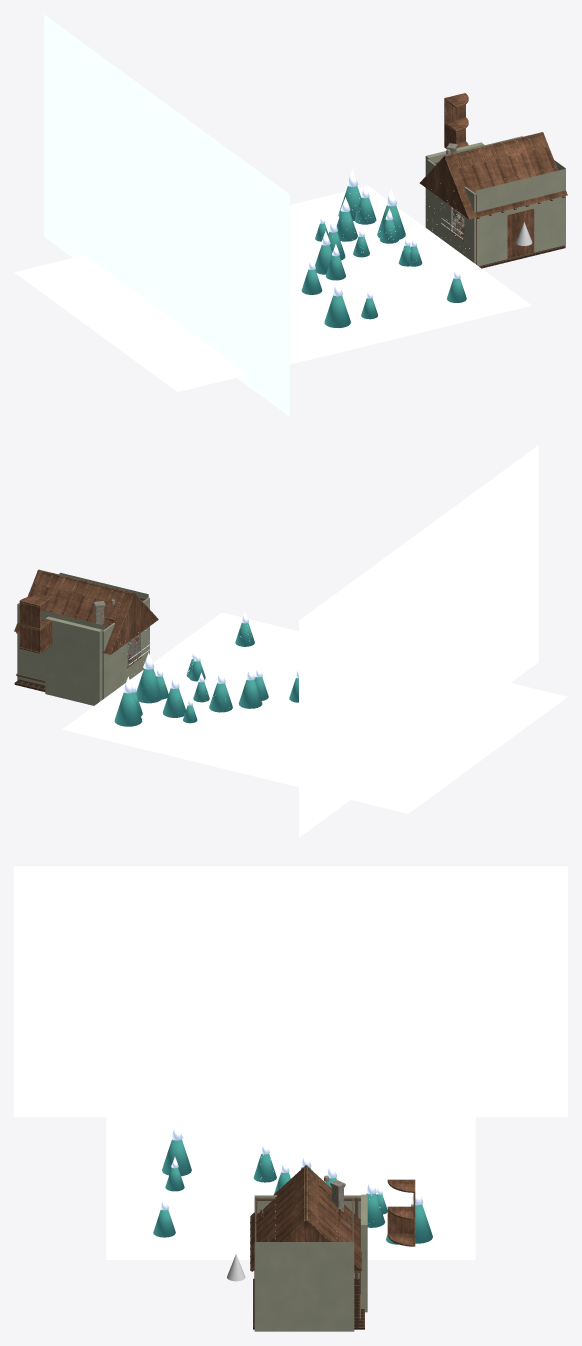
File: room.glb
3 renders of one model, top to bottom at view 1: azimuth 30°, elevation 25°; view 2: azimuth 150°, elevation 25°; view 3: azimuth 270°, elevation 25°, orthographic. The views are drawn at different scales.
Parts seen in each view (by area): view 1: OutBackdrop, OutGround, RoofGable, RoomShell, WestWallRound, BookShelf, OutPine5; view 2: OutBackdrop, OutGround, RoofGable, Cube.022, WestWallRound, RoomShell, OutPine9, OutPine15, OutPine2, OutPine0, OutPine3, CornerCab_SideX2 (+1 smaller); view 3: OutBackdrop, OutGround, RoomShell, RoofGable, Cube.022, OutPine5.
Part boxes in pixels (x1,y1,x2,y2): OutBackdrop: [44, 14, 289, 416]; OutGround: [14, 186, 531, 391]; RoofGable: [419, 132, 567, 219]; RoomShell: [431, 136, 565, 268]; WestWallRound: [427, 159, 475, 263]; BookShelf: [507, 208, 534, 258]; OutPine5: [324, 295, 350, 328]; OutBackdrop: [299, 445, 538, 837]; OutGround: [62, 612, 567, 813]; RoofGable: [14, 569, 158, 654]; Cube.022: [45, 616, 102, 705]; WestWallRound: [102, 597, 149, 699]; RoomShell: [17, 572, 148, 685]; OutPine9: [114, 692, 142, 726]; OutPine15: [136, 668, 161, 703]; OutPine2: [162, 688, 185, 717]; OutPine0: [209, 683, 232, 712]; OutPine3: [238, 679, 262, 708]; CornerCab_SideX2: [19, 602, 40, 628]; OutBackdrop: [14, 866, 567, 1117]; OutGround: [106, 1104, 475, 1259]; RoomShell: [254, 1242, 354, 1331]; RoofGable: [250, 1165, 361, 1270]; Cube.022: [361, 1194, 367, 1312]; OutPine5: [162, 1139, 191, 1176].
Size of the model in its own units: 19.22 by 9.12 by 18.
Materials: 255 (155 with a texture image).
